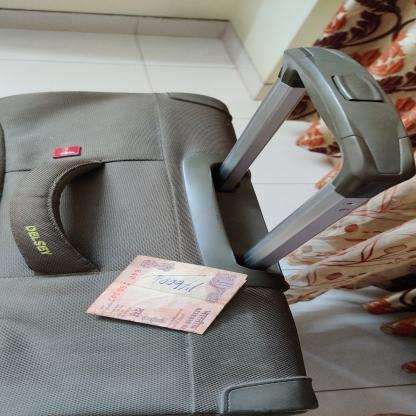Old10Front: (84, 254, 249, 335)
